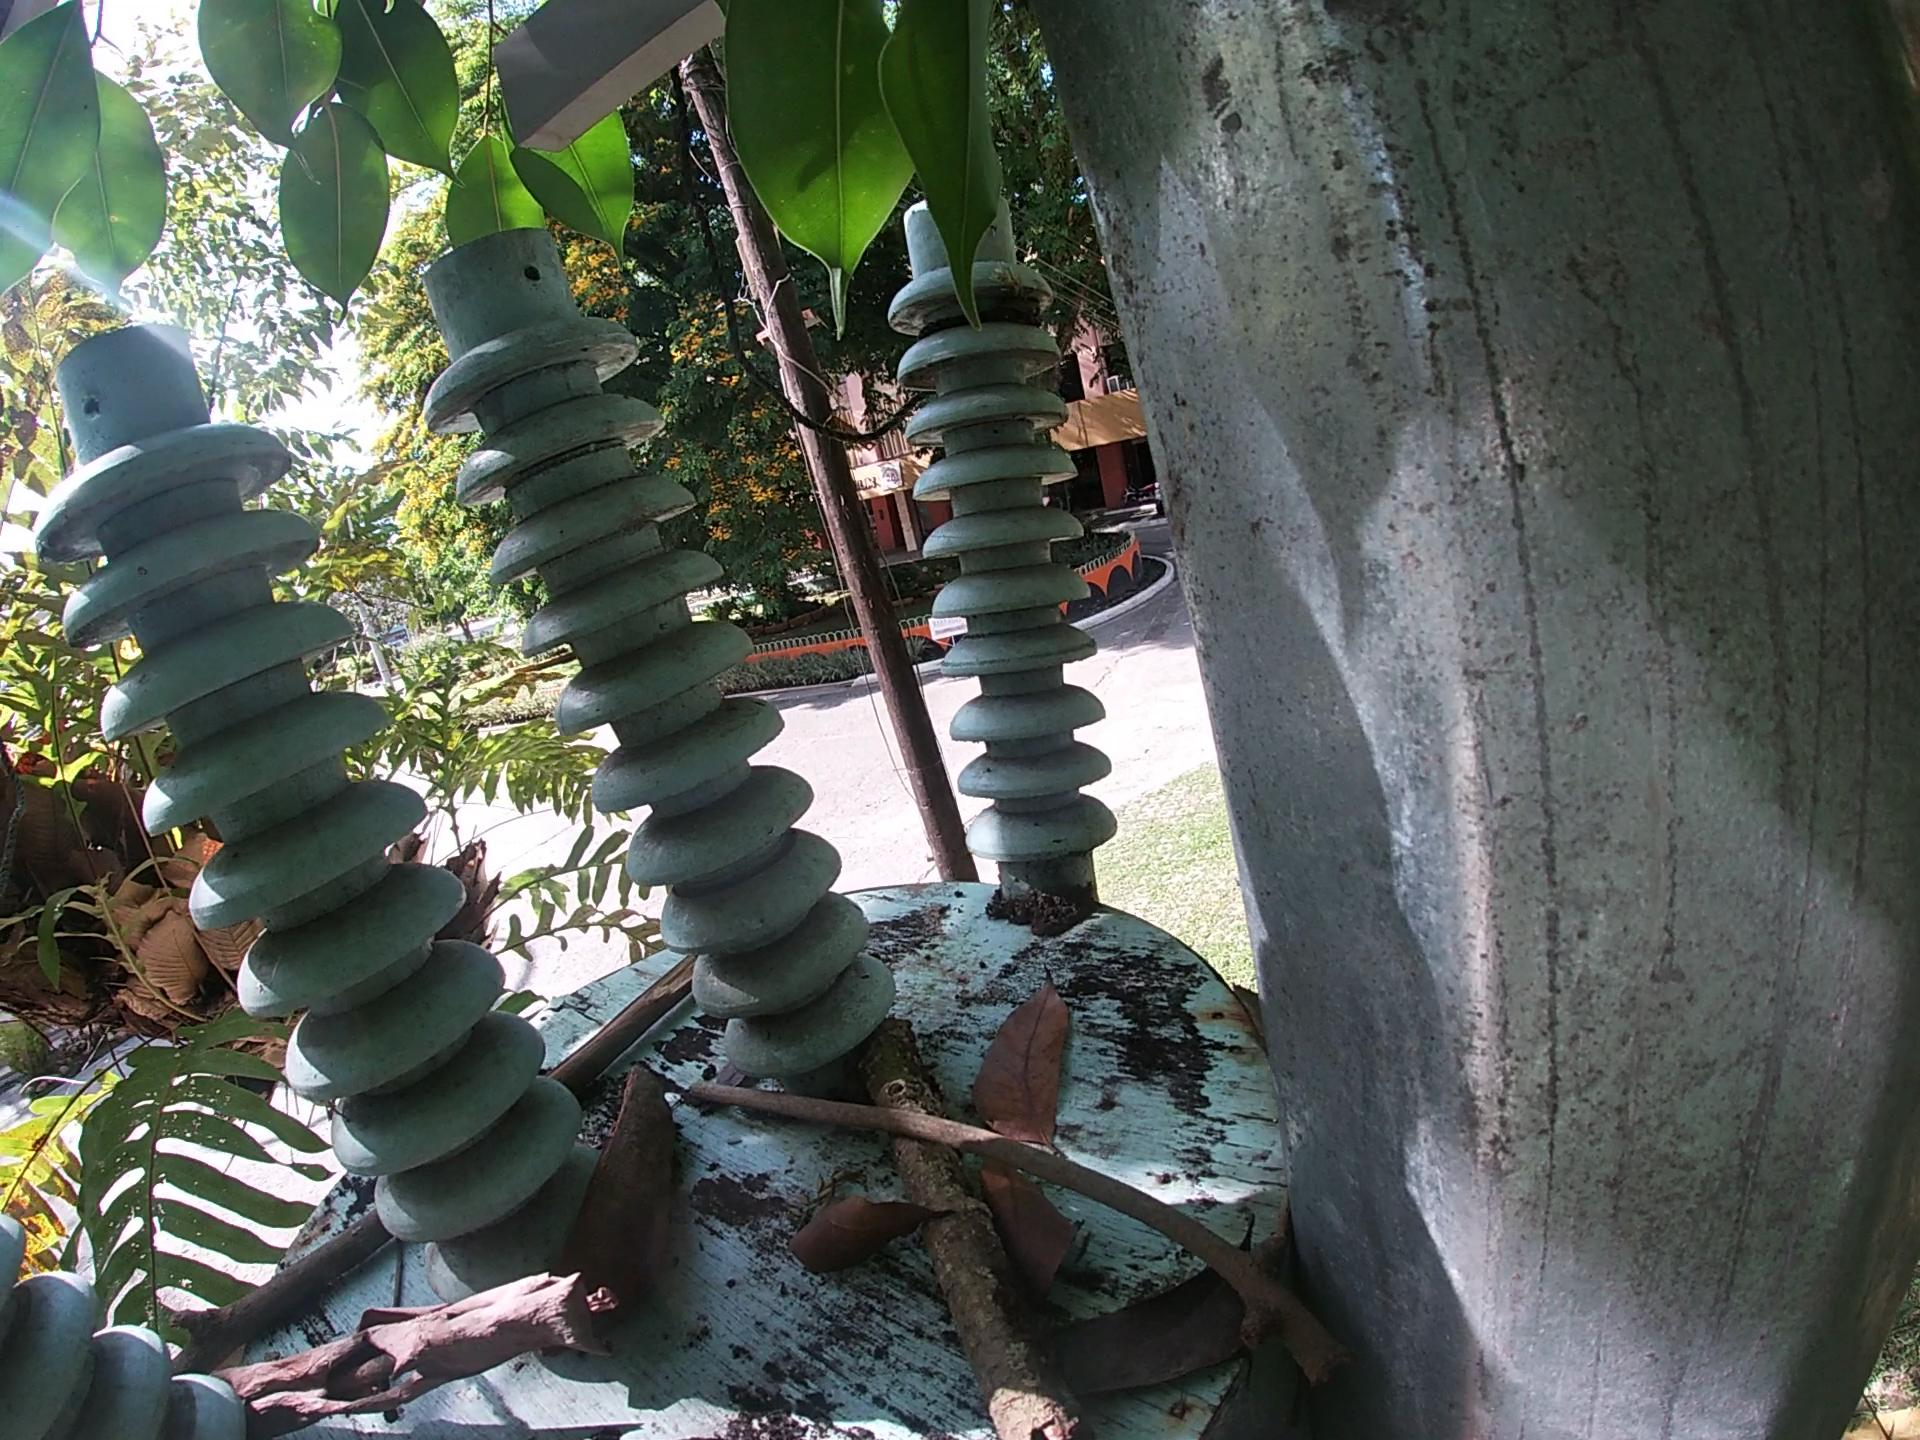leaf: (1042, 1210, 1277, 1405), (966, 961, 1085, 1165), (776, 1187, 966, 1277), (974, 1150, 1079, 1299)
mahogany fruit: (552, 1059, 683, 1352)
tree branch: (680, 1072, 1355, 1401), (853, 995, 1101, 1435), (200, 1268, 621, 1438), (159, 1207, 401, 1379), (540, 948, 714, 1104)
